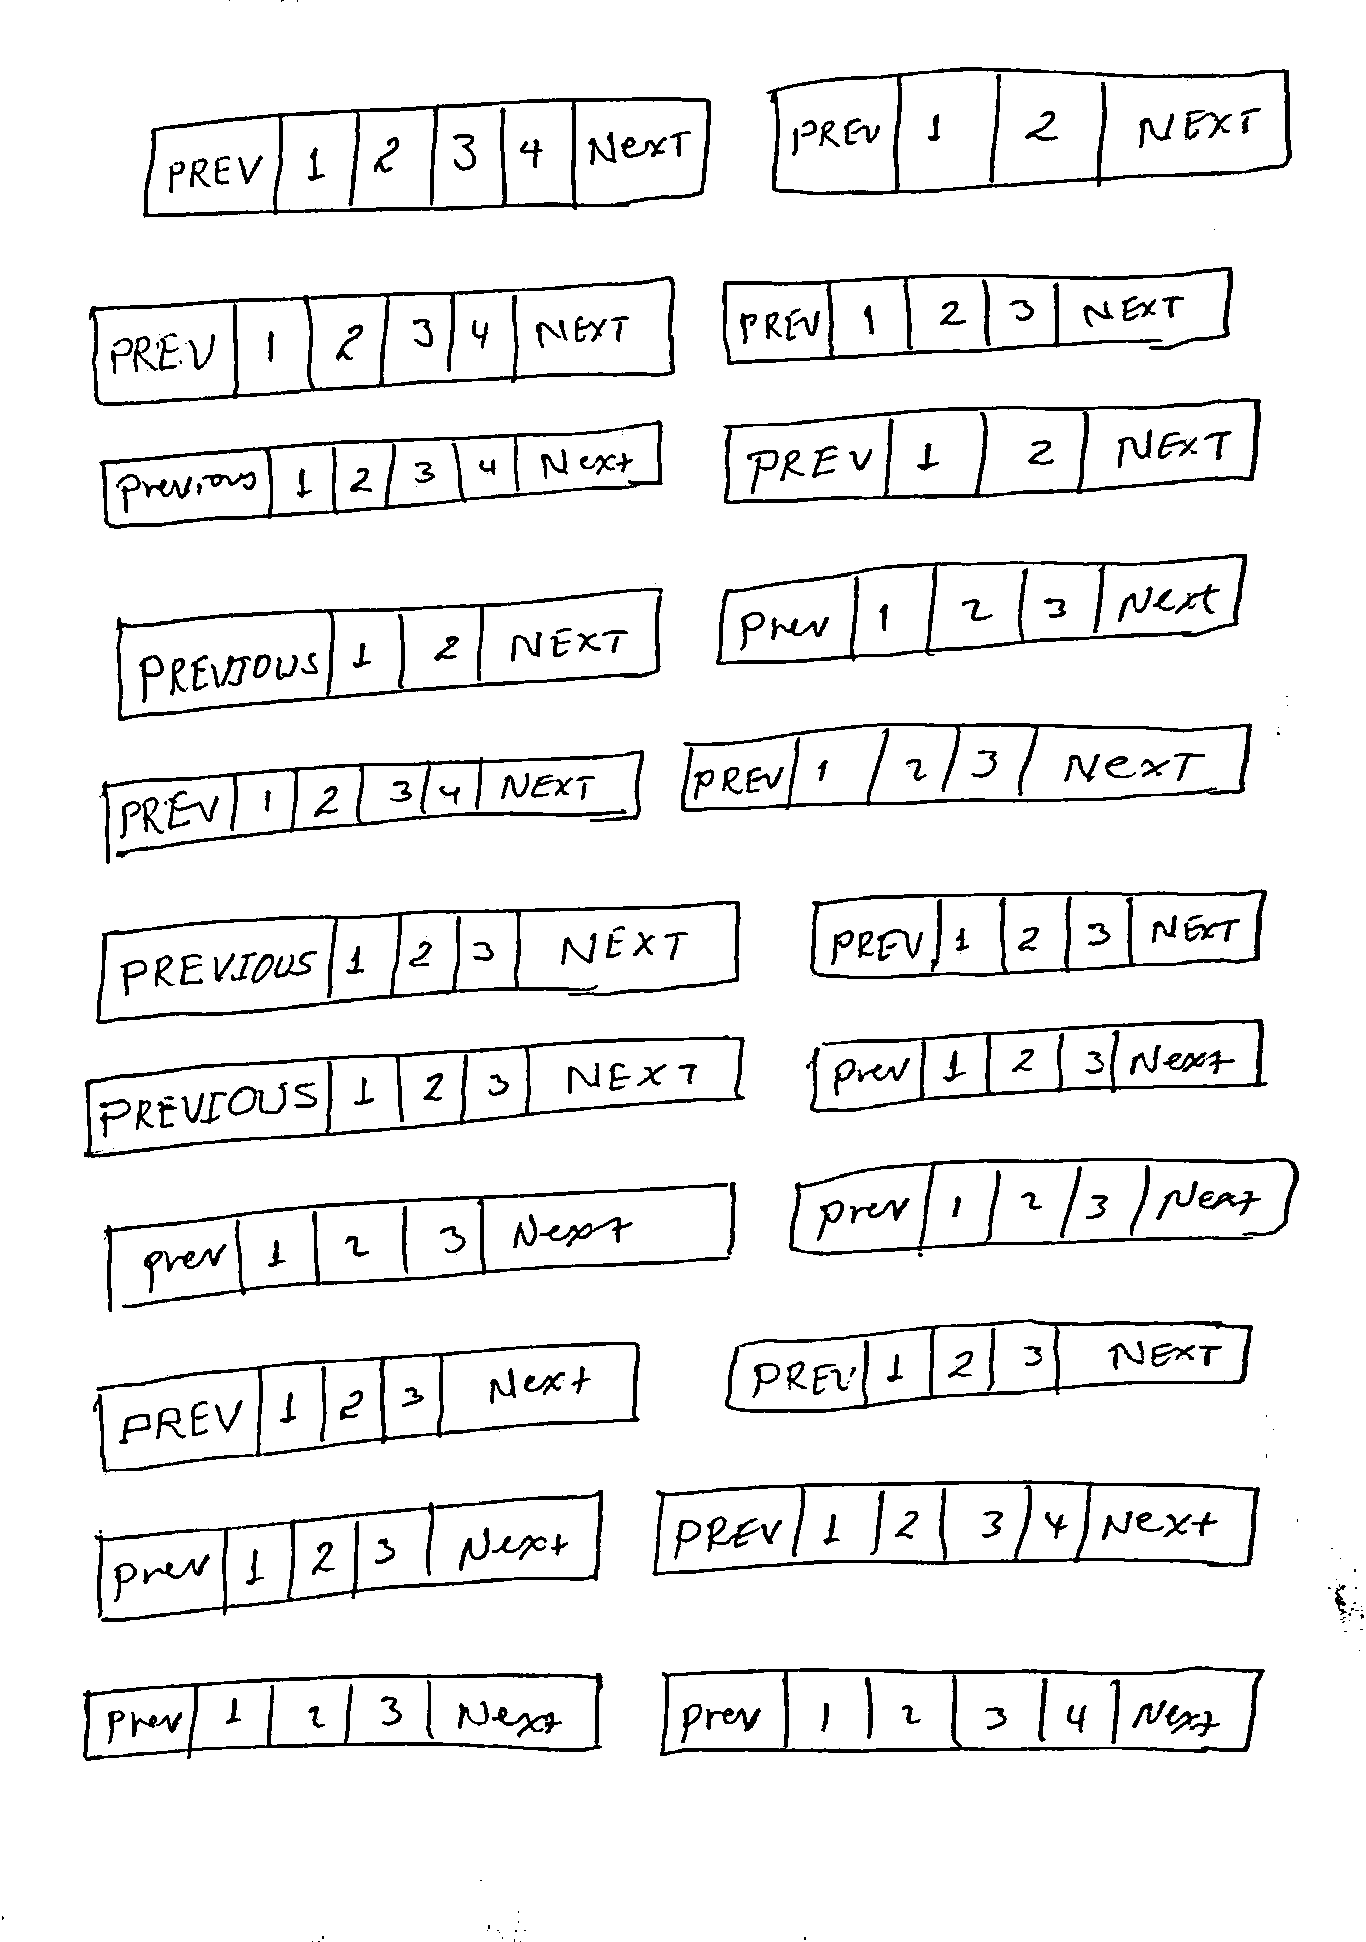Pagination: (102, 1176, 739, 1317), (81, 1030, 747, 1160), (92, 897, 744, 1027), (87, 273, 679, 408), (114, 582, 664, 726), (92, 1338, 642, 1479), (137, 95, 713, 222), (95, 1487, 608, 1627), (766, 64, 1292, 198), (98, 418, 667, 534), (713, 551, 1248, 668), (101, 748, 648, 862), (646, 1478, 1264, 1578), (718, 398, 1263, 507), (656, 1663, 1263, 1760), (677, 718, 1252, 814), (721, 1317, 1254, 1417), (786, 1154, 1299, 1258), (717, 265, 1236, 367), (75, 1669, 606, 1765), (807, 882, 1267, 983), (804, 1015, 1268, 1114)
